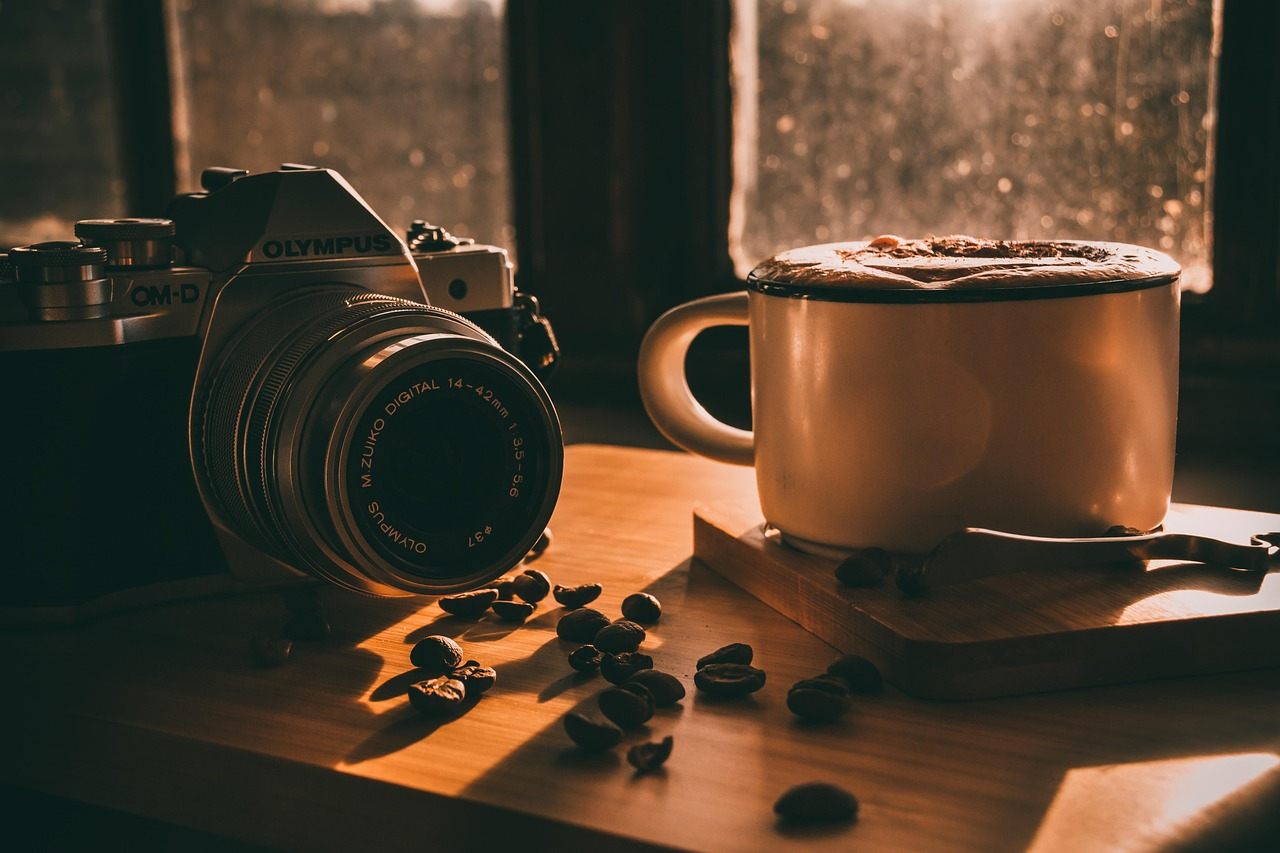mug: (613, 219, 1191, 547)
